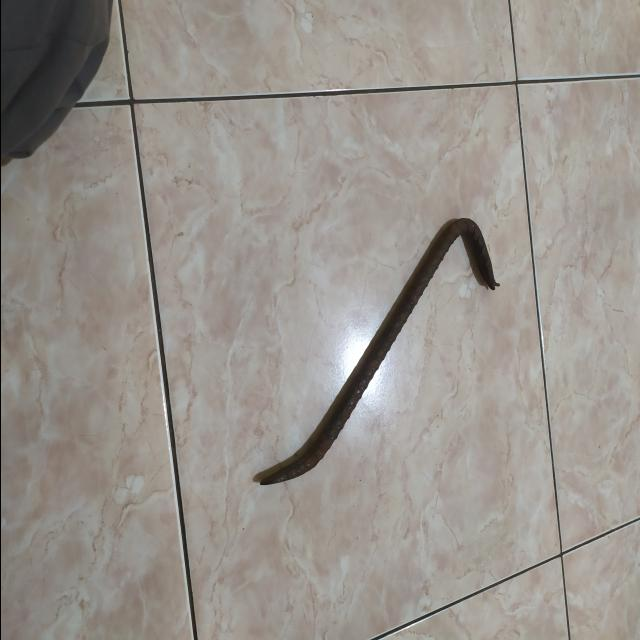Linggis: (249, 225, 495, 494)
